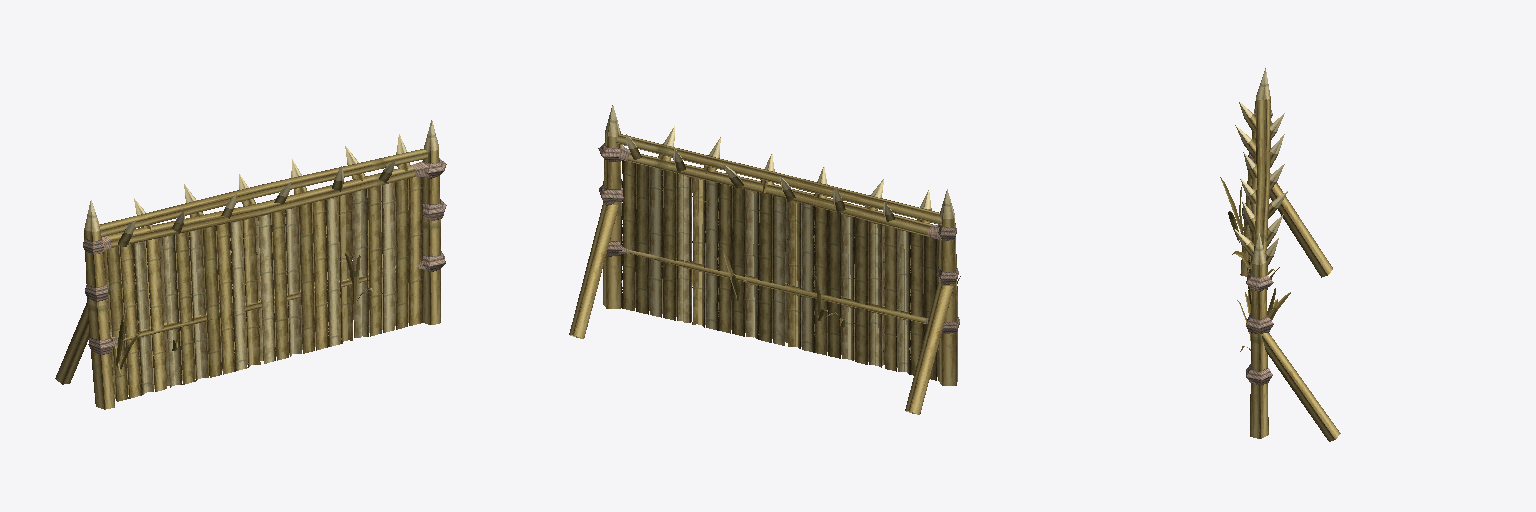
The picture shows the model from 3 angles: view 1: azimuth 30°, elevation 25°; view 2: azimuth 150°, elevation 25°; view 3: azimuth 270°, elevation 25°; orthographic projection.
Parts seen in each view (by area): view 1: Node 0; view 2: Node 0; view 3: Node 0.
Boxes of the visible parts, x1,y1,x2,y2 form: Node 0: [55, 120, 446, 409]; Node 0: [569, 105, 960, 414]; Node 0: [1220, 68, 1340, 441].
Bounding box in the file's own units: 20.1 × 11.14 × 5.87.
Materials: 3 (3 with a texture image).